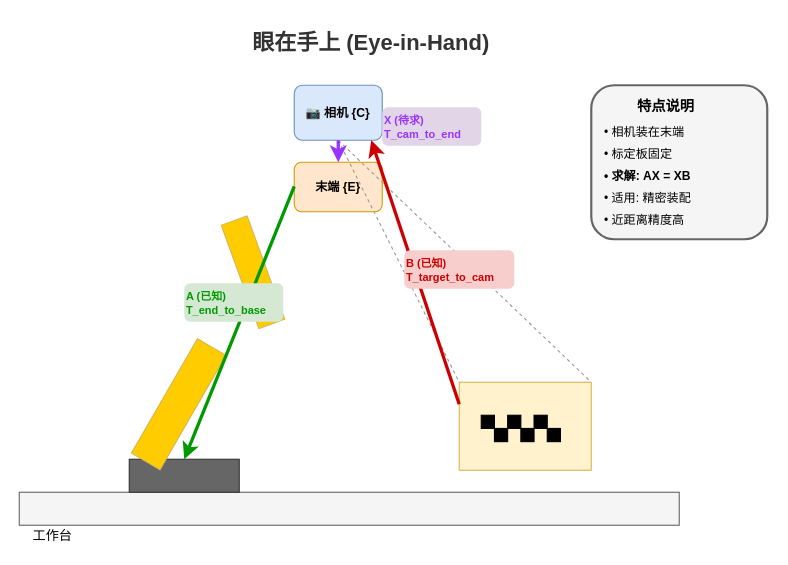
Image size: 788x565. Some labels were removed from this diagram. The shapes that lost their labels are listed below. From the top down, each one's box as (x1, y1, x2, y2) in pixels, then its label:
(458, 381, 591, 470): 标定板 {T}
(128, 458, 239, 492): 基座 {B}
